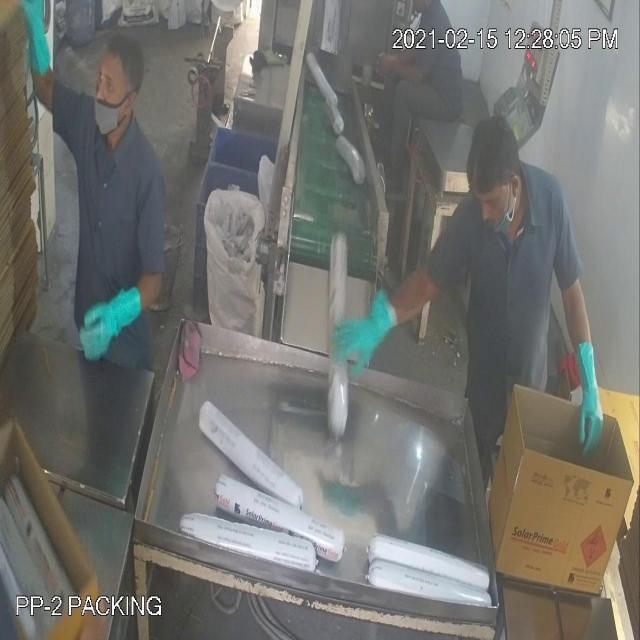No_Gloves: (41, 56, 587, 396)
